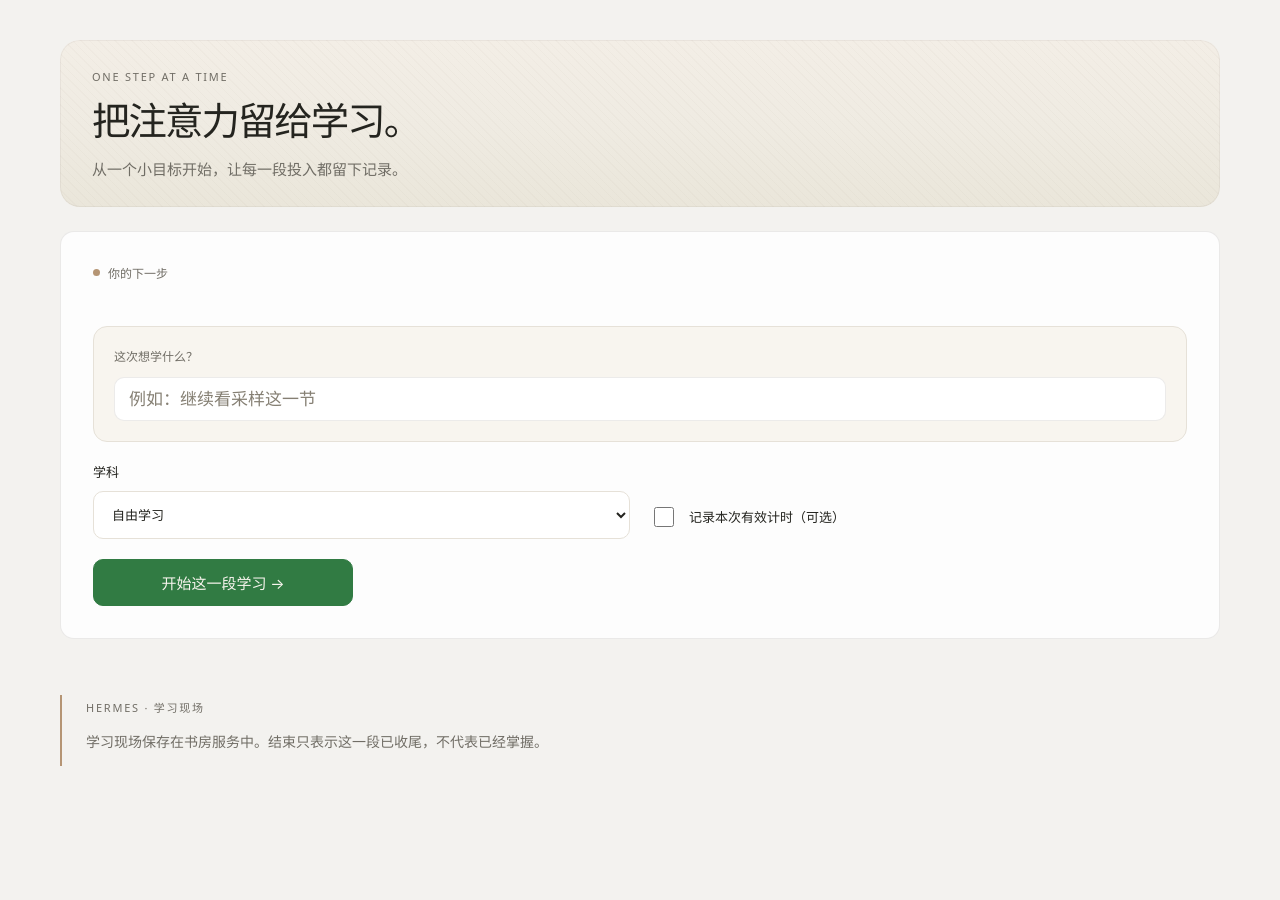
Test: learning scene › refreshes the remote scene on conflict and leaves an unsubmitted draft intact
Type "保留这段输入" into the field labelled "这次想学什么？" at (640, 399), box [114,377,1166,421]
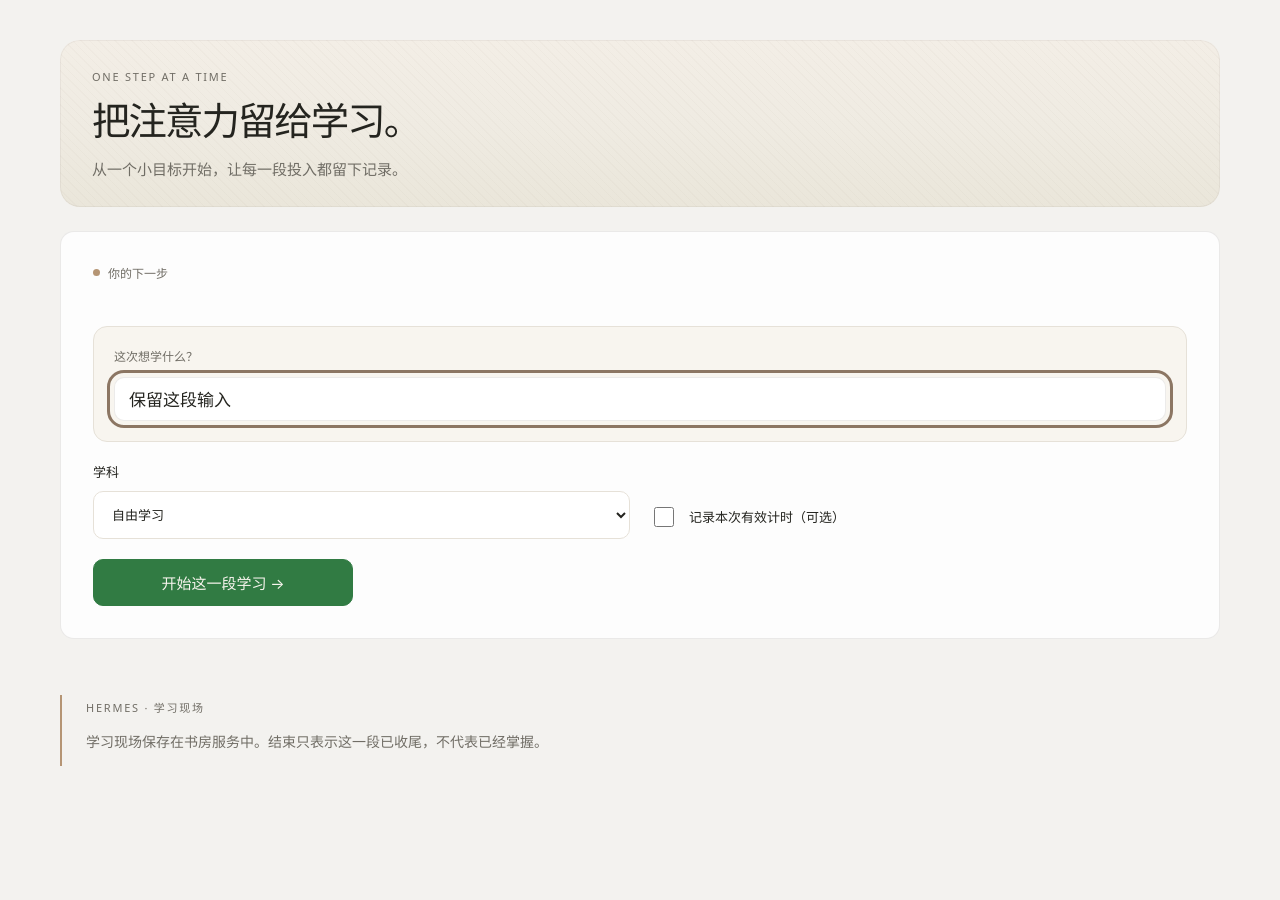
Click the button "开始这一段学习 →" at (223, 582), box [93,559,353,606]
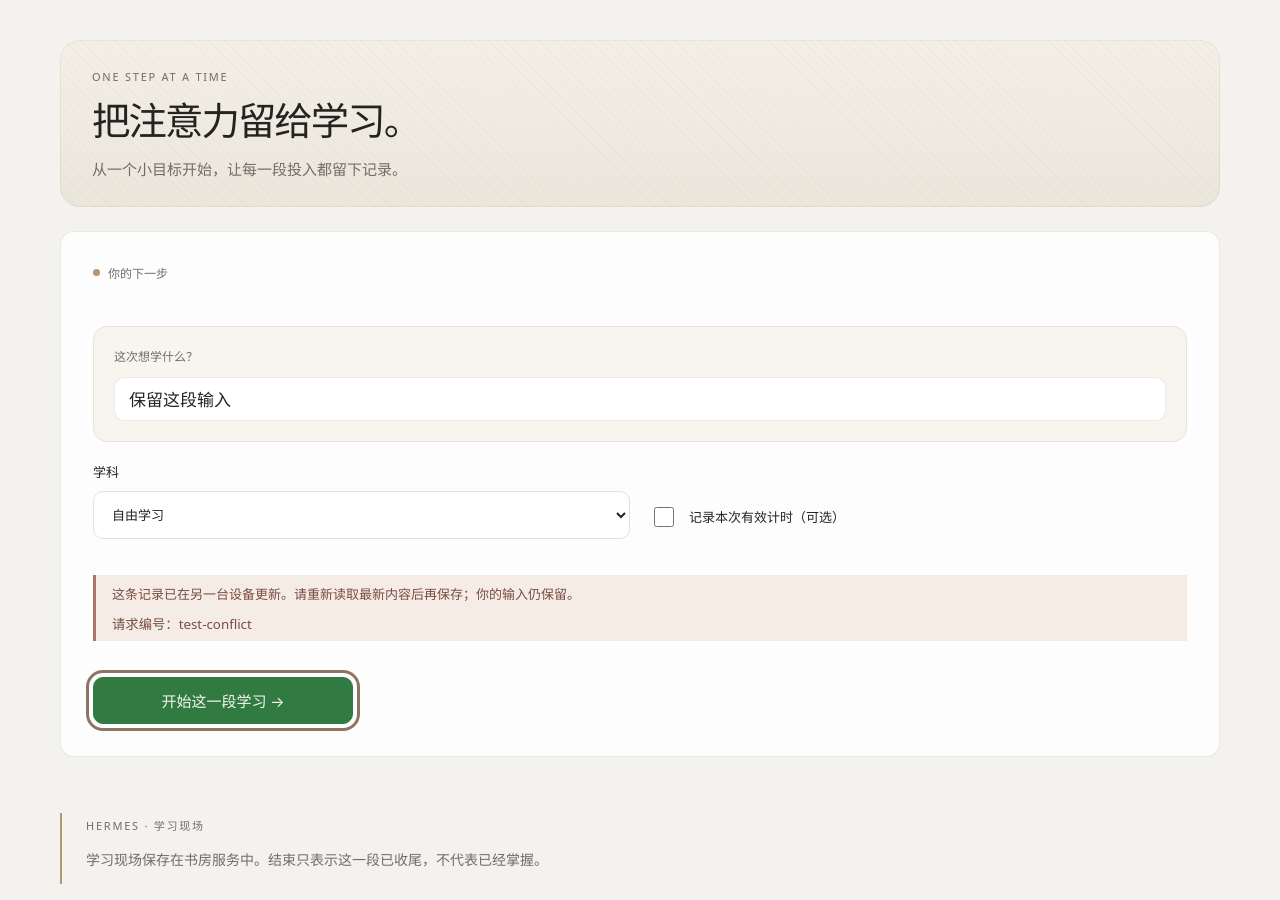
expect the text "请求编号：test-conflict" is shown: met, box [112,615,252,633]
